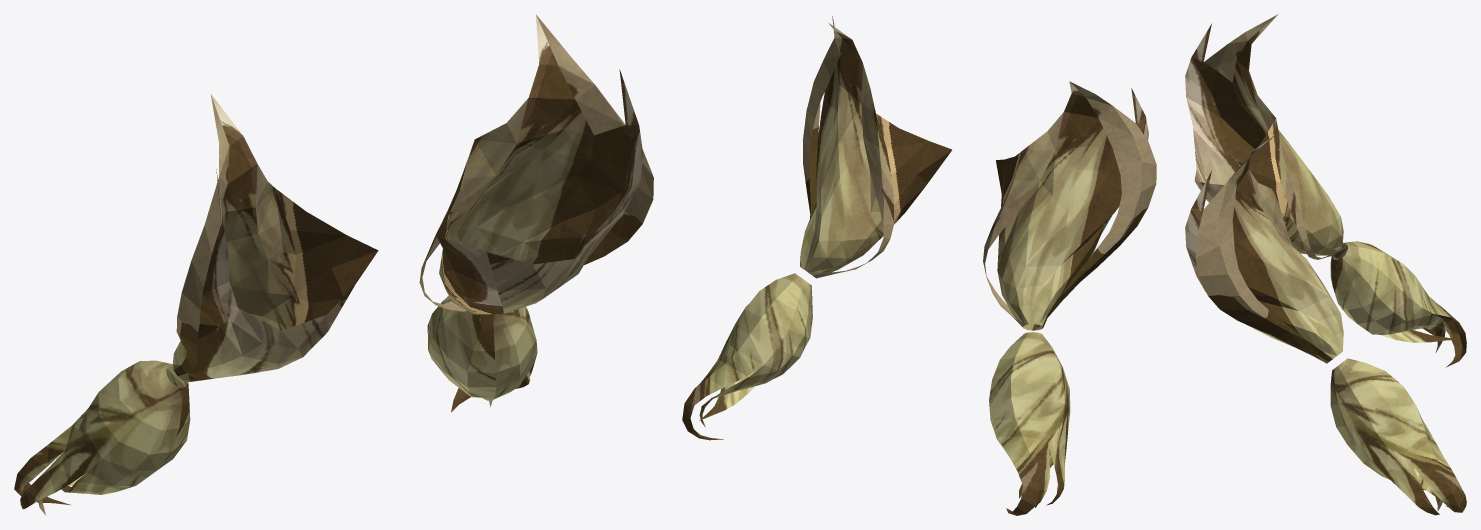
The model's file is skinSource0DJE.obj.
The picture shows the model from 3 angles, left to right: view 1: azimuth 30°, elevation 25°; view 2: azimuth 150°, elevation 25°; view 3: azimuth 270°, elevation 25°; orthographic projection. The views are drawn at different scales.
Visible parts, largest first — view 1: skinSource0DJE; view 2: skinSource0DJE; view 3: skinSource0DJE.
Boxes of the visible parts, box(x1,y1,x2,y2) form: skinSource0DJE: box(14, 14, 653, 515); skinSource0DJE: box(682, 16, 1156, 515); skinSource0DJE: box(1185, 14, 1466, 515).
Bounding box in the file's own units: 26.43 × 24.68 × 17.33.
